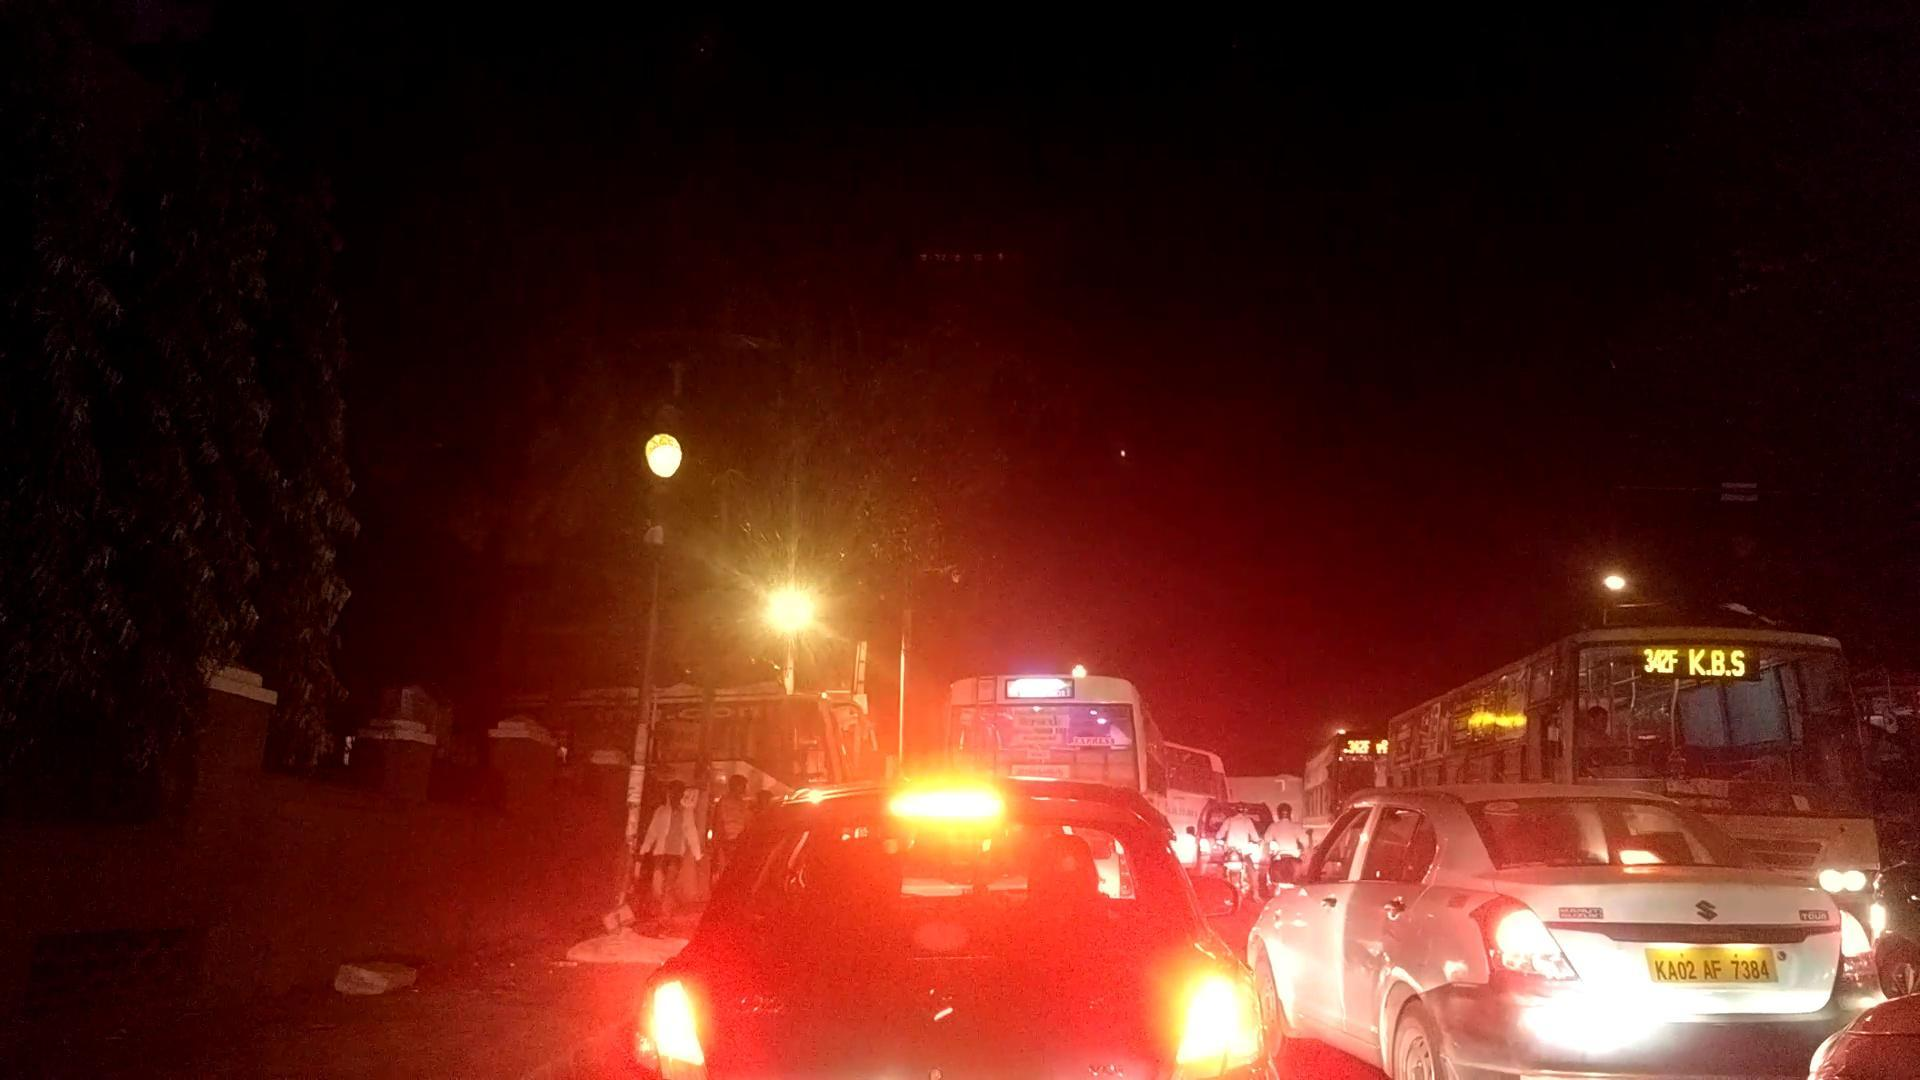on: (680, 472, 903, 779)
